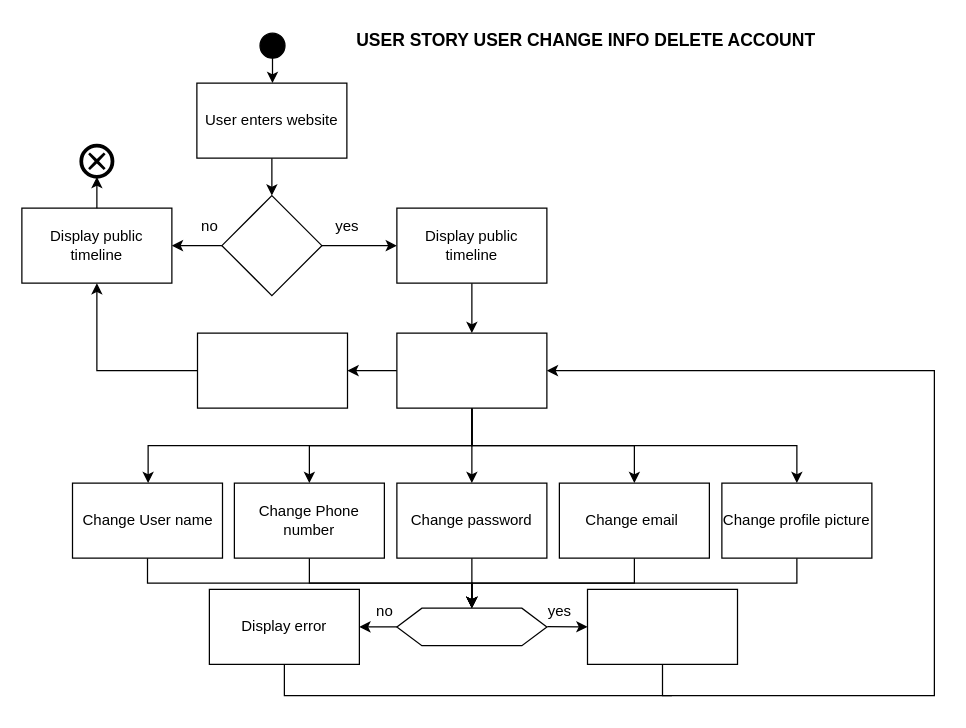
Some shapes in this 966 by 728 pixel diagram are drawn without their labels. The shapes that lost their labels are listed below. From the top down, each one's centre as x and y in pixels, then its label:
the point at 271,245: User is logged in
the point at 272,370: User deletes account
the point at 471,370: User enters manage account
the point at 471,626: Valid
the point at 662,626: Display success message
